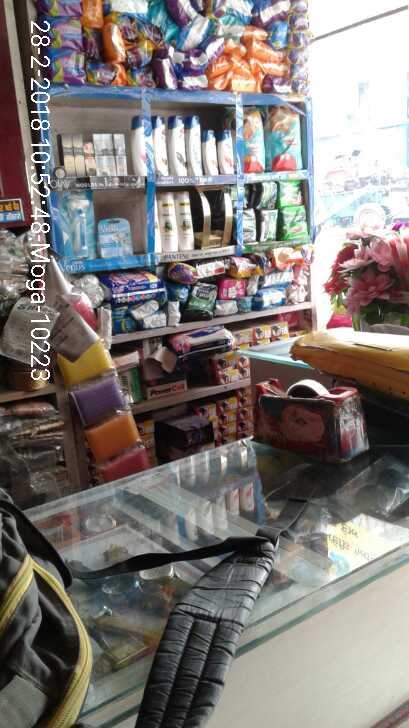venus: (55, 187, 97, 256), (97, 219, 130, 256)
